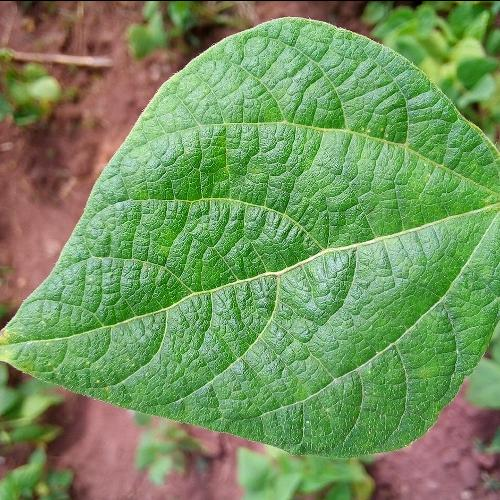mozaik: (205, 80, 448, 405)
